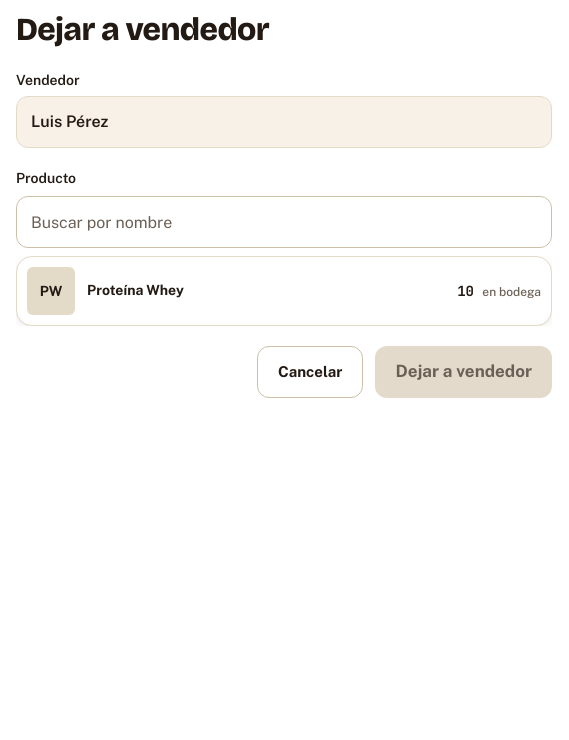
Test case: CreateDeliveryPageComponent › sin producto en la URL pide la lista, la ofrece en el buscador y al elegir uno pide su detalle
Click the button with class "option" at (51, 291), box [16,256,552,326]
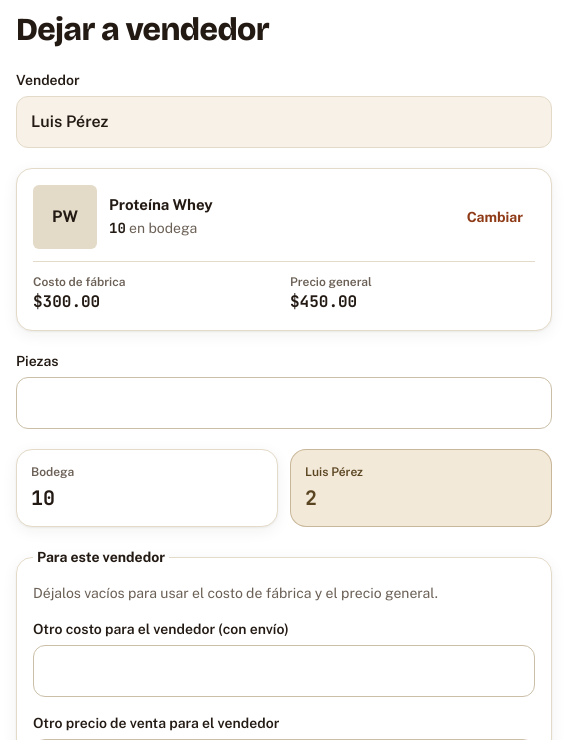
Now the element named "Producto" is shown, box [16,168,552,331]
// «Cambiar» vuelve al buscador sin pedir otra lista.
Click the button "Cambiar" at (495, 217), box [455,195,535,239]
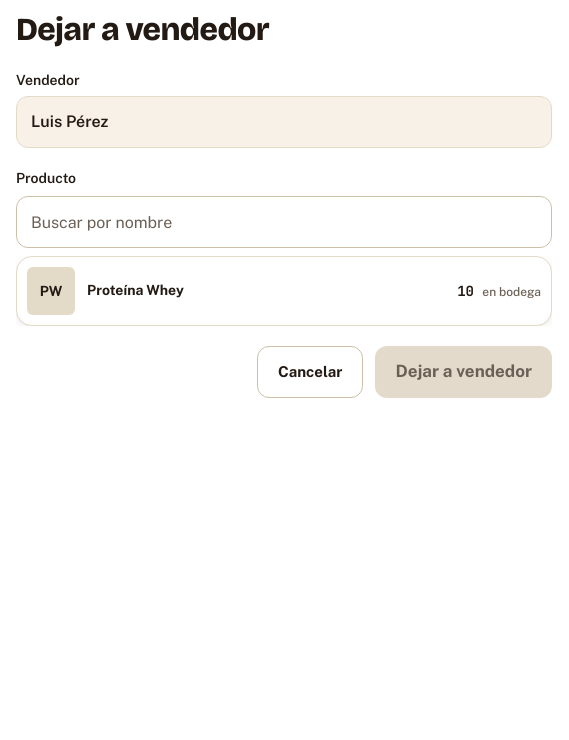
Now the element showing "Producto PW Proteína Whey 10 en bodega" is shown, box [16,168,552,326]
